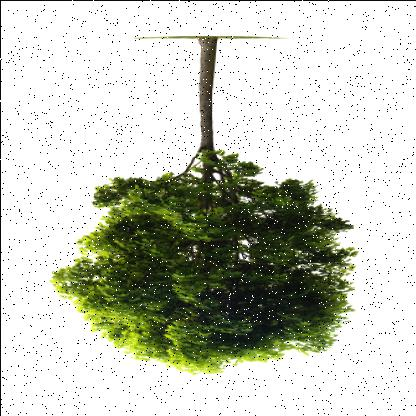Tree: (67, 36, 363, 369)
